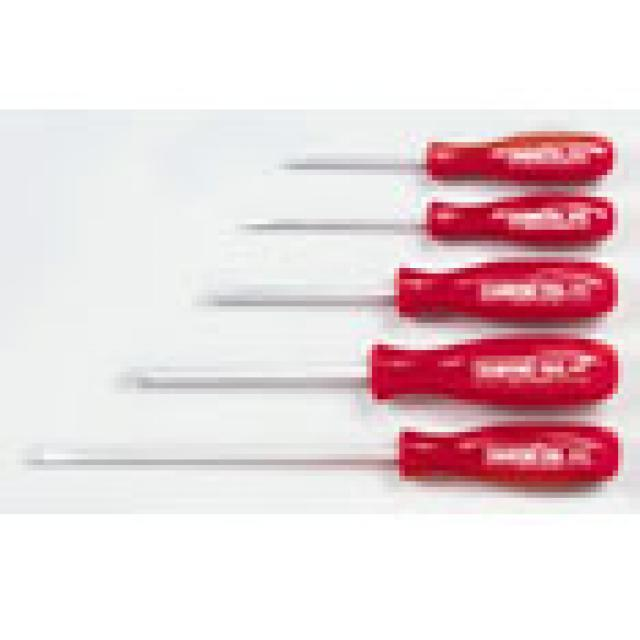screwdriver: (0, 418, 627, 496), (99, 332, 625, 418), (198, 252, 626, 330), (270, 122, 622, 192), (225, 192, 622, 254)
